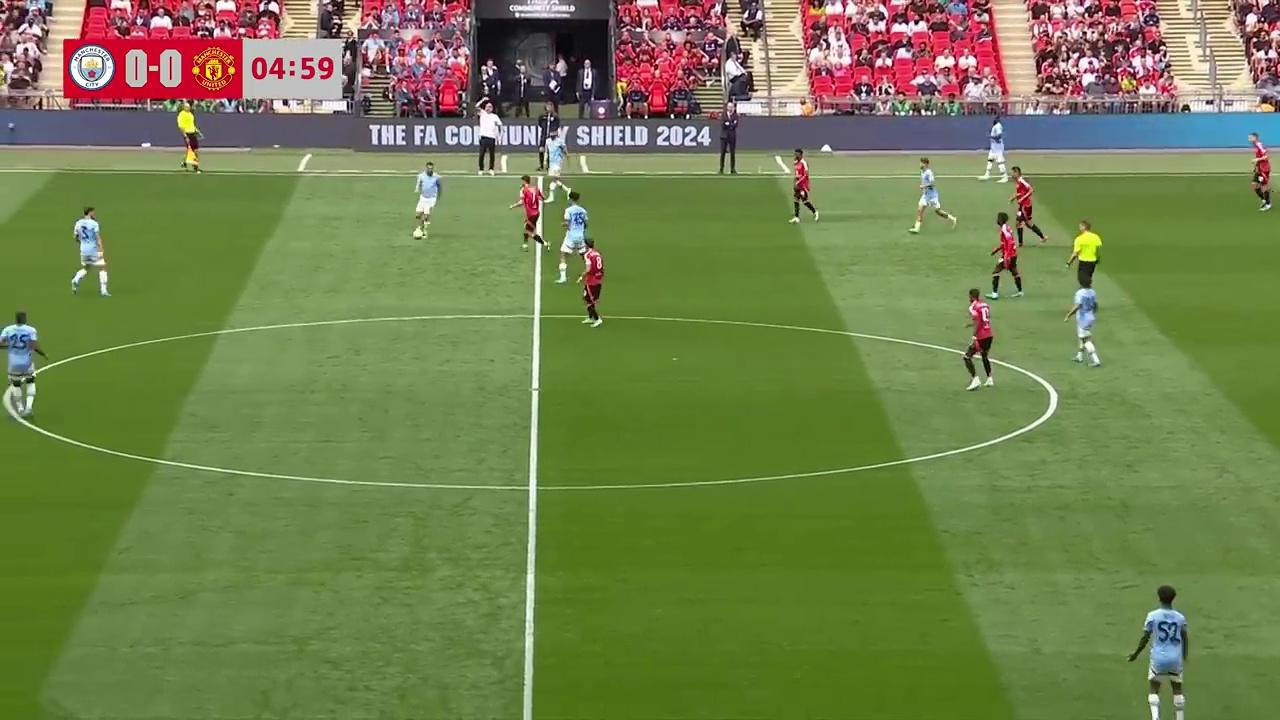ball: (409, 226, 423, 244)
player: (1127, 586, 1189, 720), (0, 309, 47, 416), (71, 206, 111, 297), (908, 159, 956, 233), (962, 288, 995, 390), (509, 173, 550, 251), (1064, 280, 1101, 366), (1007, 170, 1048, 247), (989, 212, 1024, 299), (556, 193, 589, 274), (978, 111, 1010, 182), (578, 240, 604, 327), (413, 161, 442, 239), (1248, 133, 1277, 210), (789, 149, 818, 223), (542, 138, 570, 203)
referee: (1066, 219, 1102, 288), (178, 102, 202, 174)
